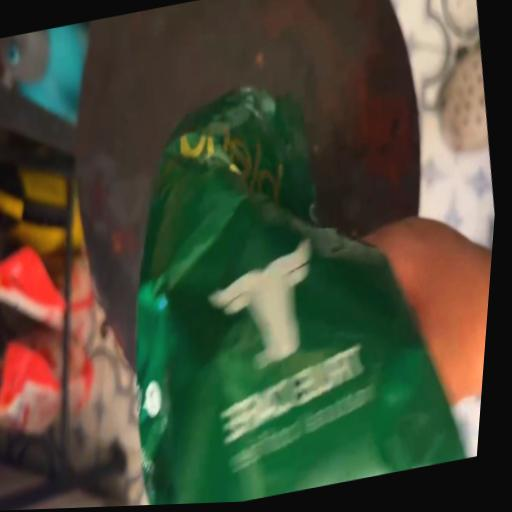cafe_xay: (136, 87, 464, 505)
